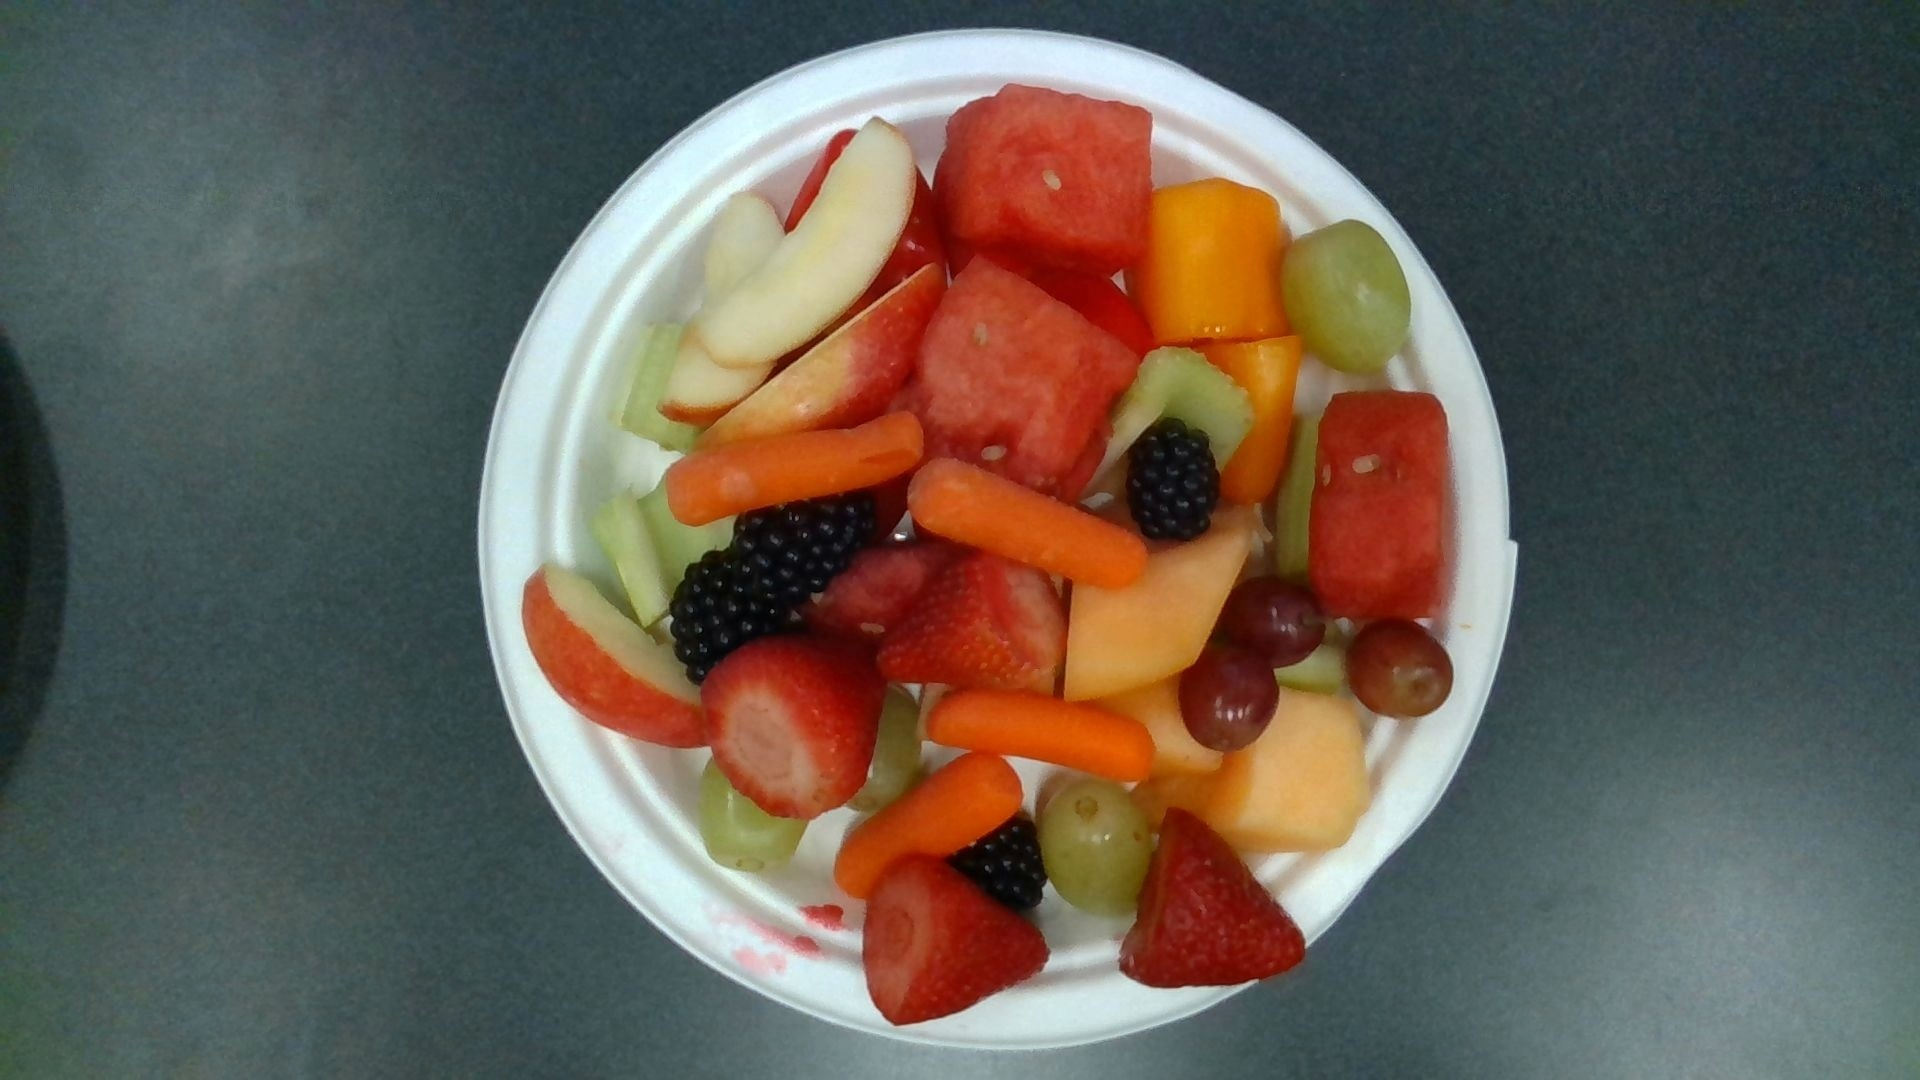apple: (695, 117, 916, 360), (522, 566, 709, 748)
blackberry: (675, 555, 796, 686), (737, 488, 876, 591), (1139, 419, 1218, 538), (953, 814, 1044, 915)
cantalope: (1069, 521, 1249, 690), (1212, 694, 1357, 851), (1145, 179, 1282, 342)
carrot: (909, 456, 1150, 589), (667, 410, 924, 530), (835, 753, 1025, 898), (927, 690, 1156, 785)
grape_green: (1284, 222, 1410, 378), (1034, 783, 1153, 911), (699, 758, 810, 870)
grape_purple: (1352, 618, 1455, 715), (1189, 650, 1279, 746), (1226, 582, 1319, 666)
melon: (910, 265, 1142, 500), (700, 261, 947, 435), (945, 88, 1149, 276), (1313, 393, 1449, 622)
strawberry: (1120, 804, 1309, 986), (704, 640, 884, 818), (865, 858, 1050, 1025), (876, 553, 1069, 690)
